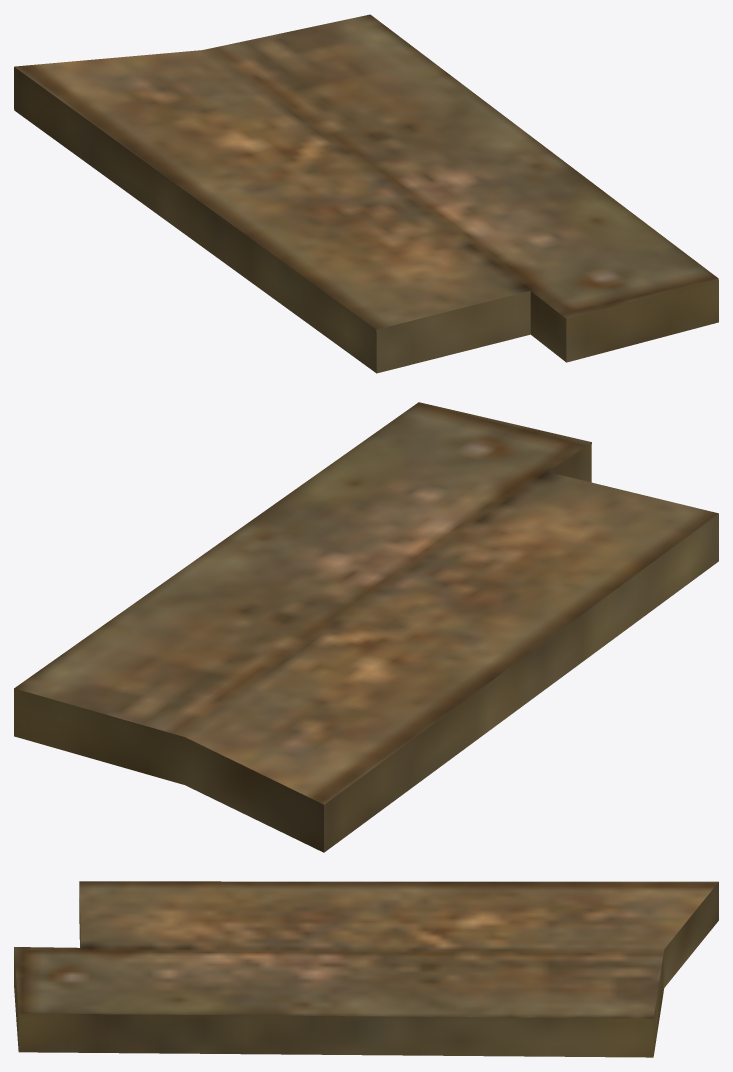
File: WoodDecor05.glb
The picture shows the model from 3 angles, top to bottom: view 1: azimuth 30°, elevation 25°; view 2: azimuth 150°, elevation 25°; view 3: azimuth 270°, elevation 25°; orthographic projection. The views are drawn at different scales.
Visible parts, largest first — view 1: WoodDecor05; view 2: WoodDecor05; view 3: WoodDecor05.
Part boxes in pixels (x1=…): WoodDecor05: x1=14, y1=14, x2=718, y2=373; WoodDecor05: x1=14, y1=402, x2=718, y2=852; WoodDecor05: x1=14, y1=881, x2=718, y2=1057.
Size of what is drawn, in the model's own units: 0.3816 by 0.0524 by 0.8234.
Materials: 1 (1 with a texture image).
